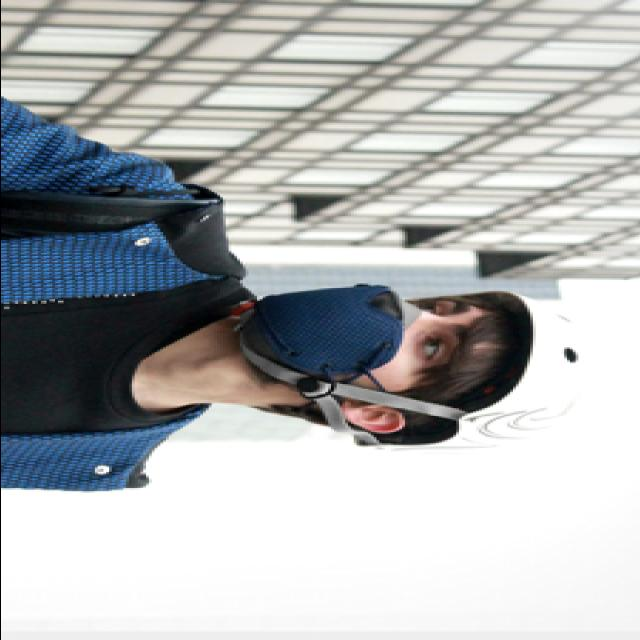mask: (239, 284, 478, 394)
